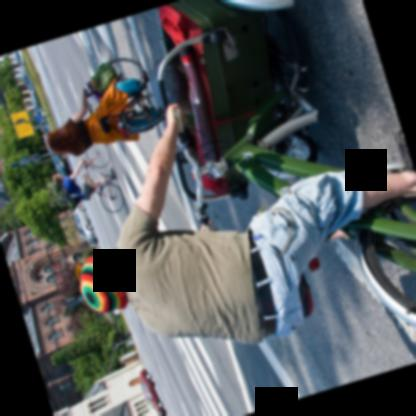backpack: (60, 181, 80, 204)
handbag: (90, 60, 119, 93)
